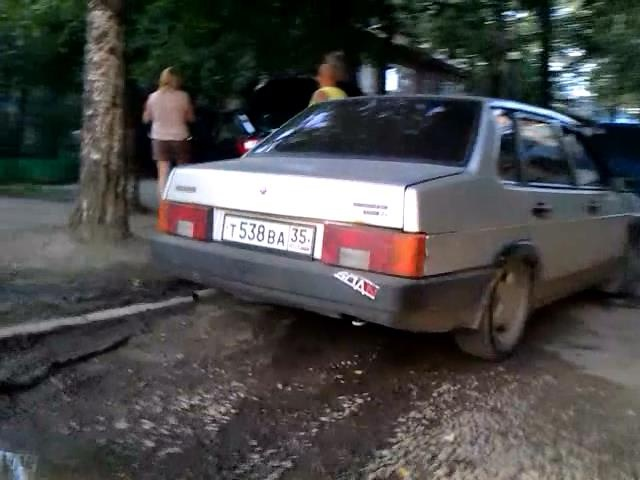car license plate: (220, 213, 318, 268)
